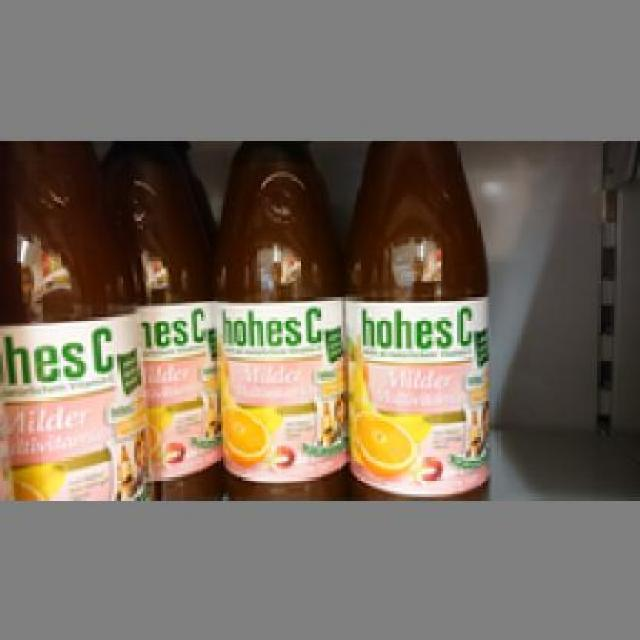Juice: (340, 140, 494, 497), (0, 138, 152, 495), (208, 139, 346, 492), (99, 137, 215, 497)
